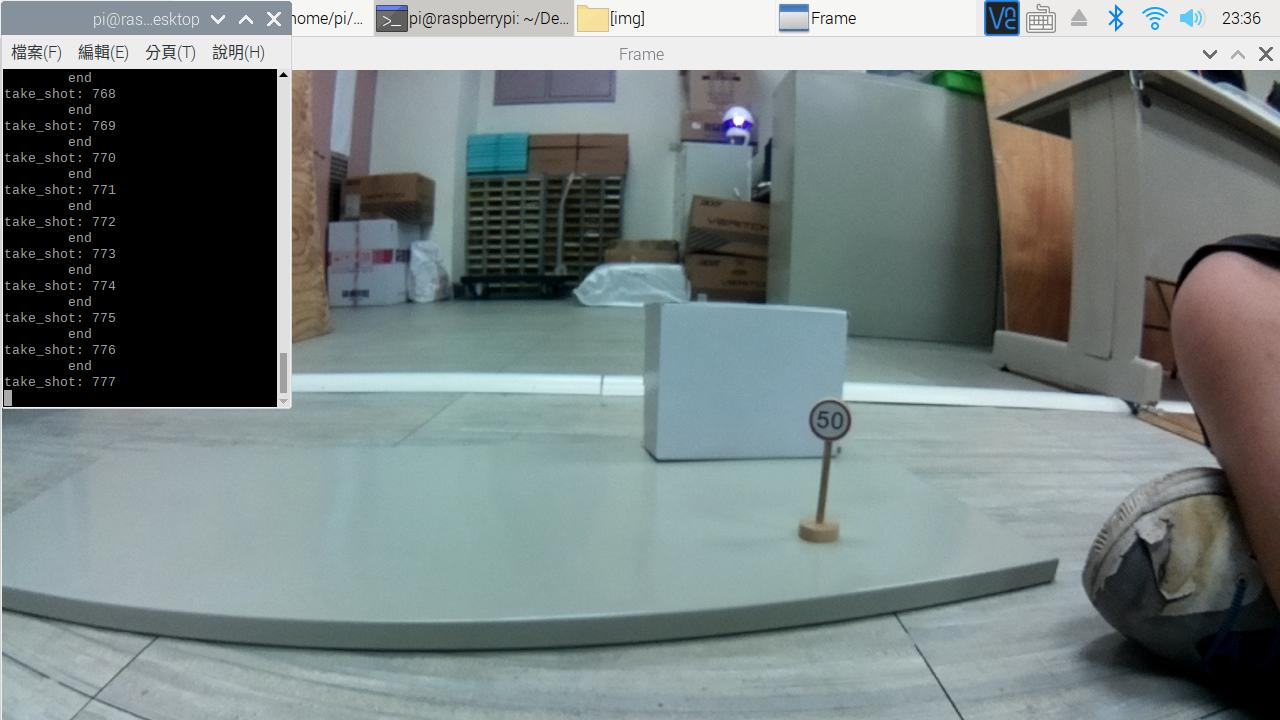Speed50: (803, 398, 860, 444)
